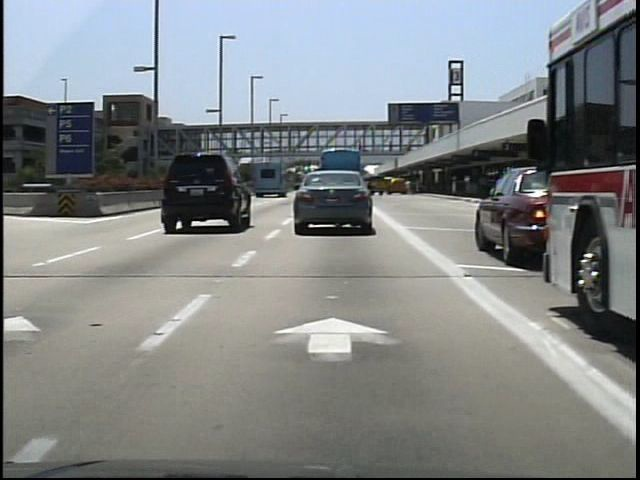person: (400, 176, 414, 199), (384, 136, 397, 158), (352, 136, 365, 156)
